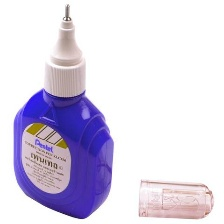correction_fluid: (9, 3, 115, 221)
